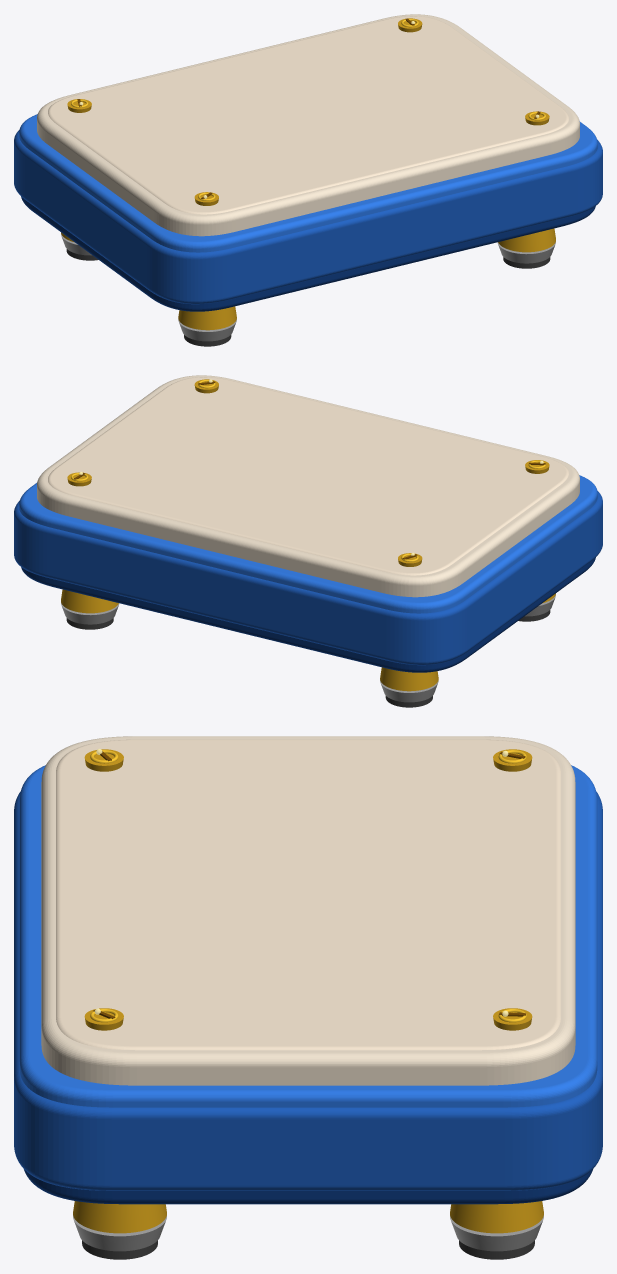
Rendered from sparkid-lab-table-no-grid.glb.
The picture shows the model from 3 angles, top to bottom: view 1: azimuth 30°, elevation 25°; view 2: azimuth 150°, elevation 25°; view 3: azimuth 270°, elevation 25°; orthographic projection. The views are drawn at different scales.
Visible parts, largest first — view 1: SparkidLabTable_GLB_EXPORT_NO_GRID; view 2: SparkidLabTable_GLB_EXPORT_NO_GRID; view 3: SparkidLabTable_GLB_EXPORT_NO_GRID.
Boxes of the visible parts, left/top/right/bottom form: SparkidLabTable_GLB_EXPORT_NO_GRID: left=14, top=14, right=602, bottom=346; SparkidLabTable_GLB_EXPORT_NO_GRID: left=14, top=375, right=602, bottom=707; SparkidLabTable_GLB_EXPORT_NO_GRID: left=14, top=736, right=602, bottom=1259.
Bounding box in the file's own units: 3.15 × 1 × 2.25.
